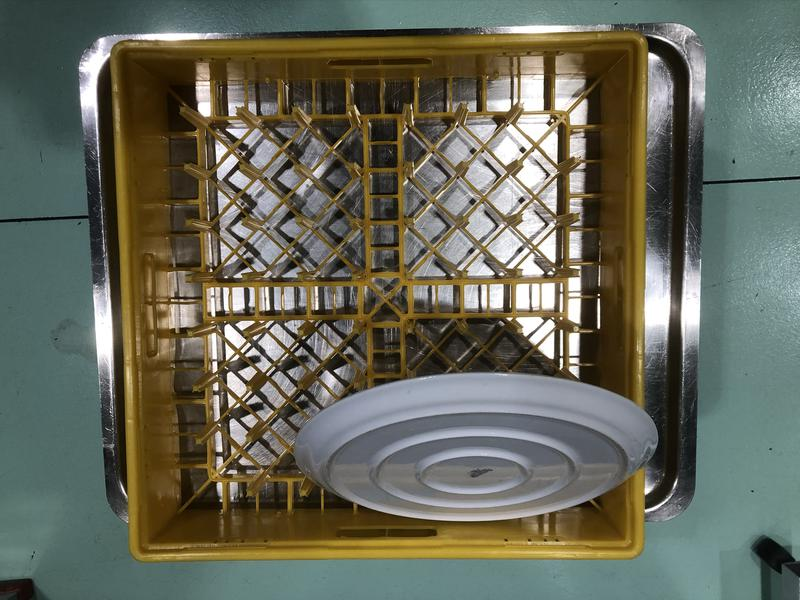Inclined_dish: (293, 373, 659, 522)
